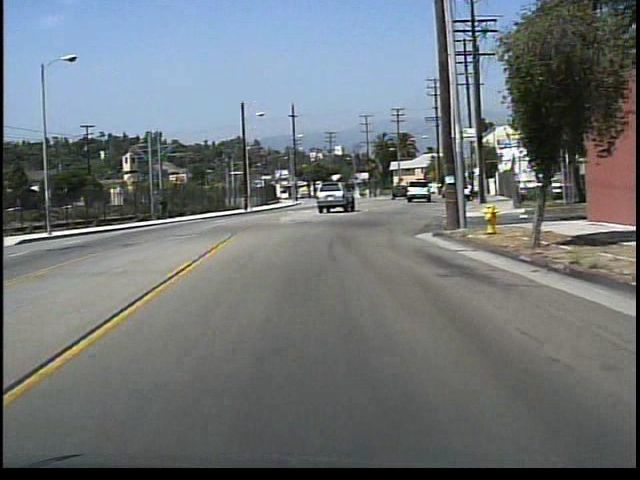person: (161, 191, 174, 221)
